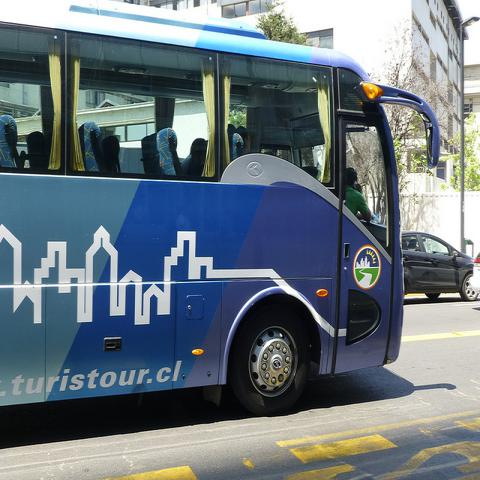bus: (1, 1, 446, 408)
car: (402, 231, 474, 307), (469, 250, 480, 296)
